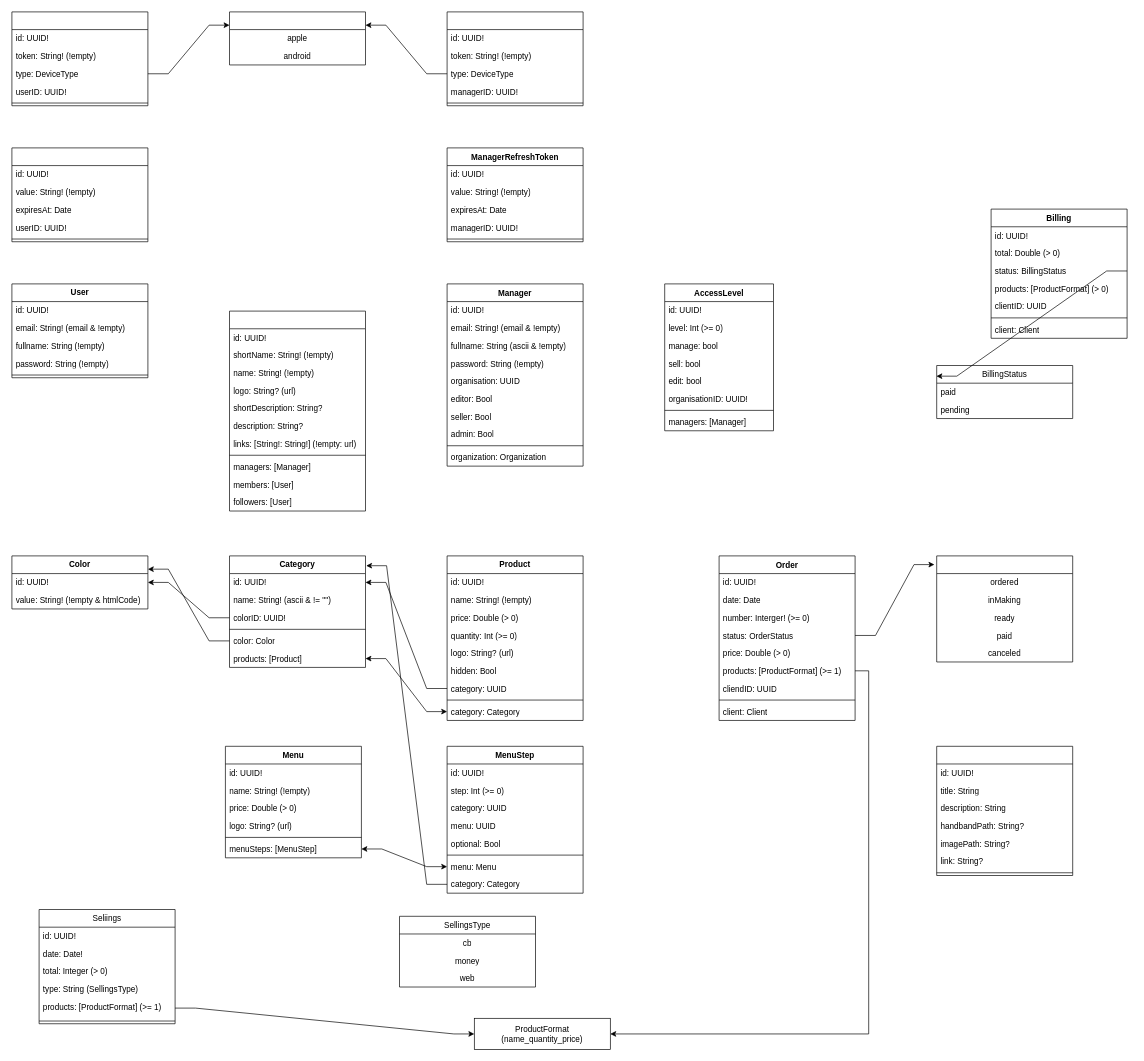
The diagram is 1144 pixels wide and 1061 high, and some of its shapes have lost their labels. The box of each missing label's shape, as (x1, y1, x2, y2) in pixels:
DevceType: (229, 11, 366, 65)
ManagerDevice: (446, 11, 583, 106)
News: (936, 746, 1073, 876)
OrderStatus: (936, 555, 1073, 662)
Organization: (229, 310, 366, 511)
UserDevice: (11, 11, 148, 106)
UserRefreshToken: (11, 147, 148, 242)
